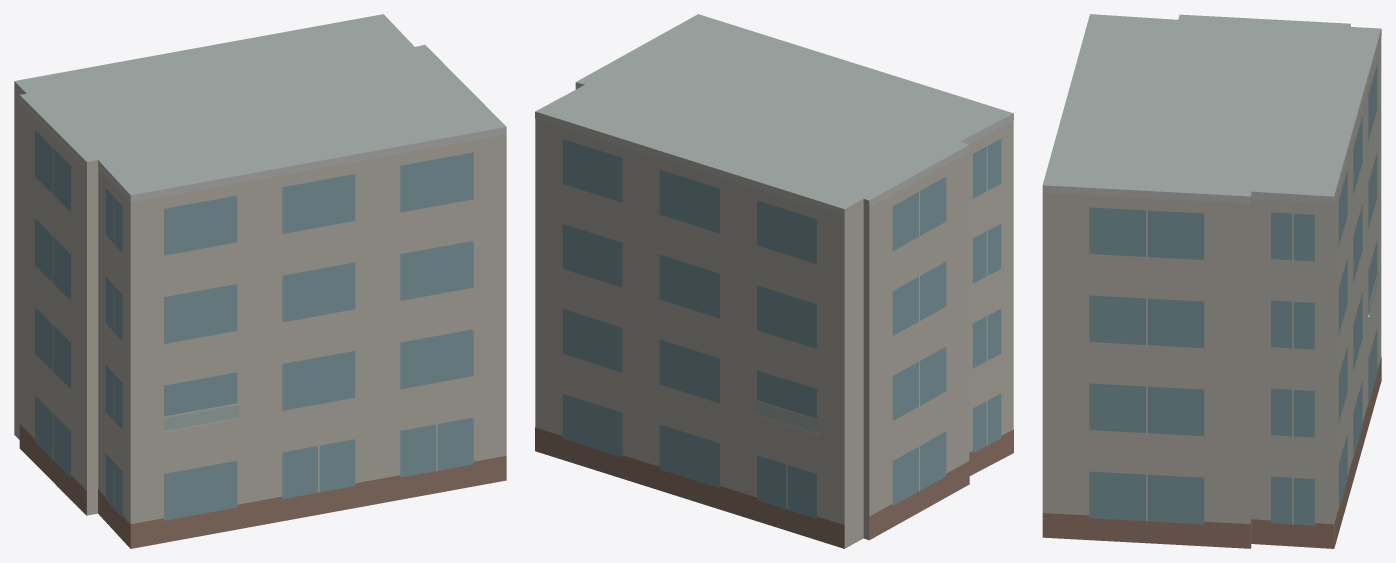
File: survey-upis-32674476.glb
3 views of the same model, side by side, from view 1: azimuth 30°, elevation 25°; view 2: azimuth 150°, elevation 25°; view 3: azimuth 270°, elevation 25° (orthographic). The views are drawn at different scales.
Visible parts, largest first — view 1: survey-upis-32674476.tmp; view 2: survey-upis-32674476.tmp; view 3: survey-upis-32674476.tmp.
Boxes of the visible parts, x1=… form: survey-upis-32674476.tmp: x1=14, y1=14, x2=506, y2=548; survey-upis-32674476.tmp: x1=535, y1=14, x2=1013, y2=548; survey-upis-32674476.tmp: x1=1042, y1=14, x2=1381, y2=548.
Bounding box in the file's own units: 13.02 × 11.7 × 10.21.
